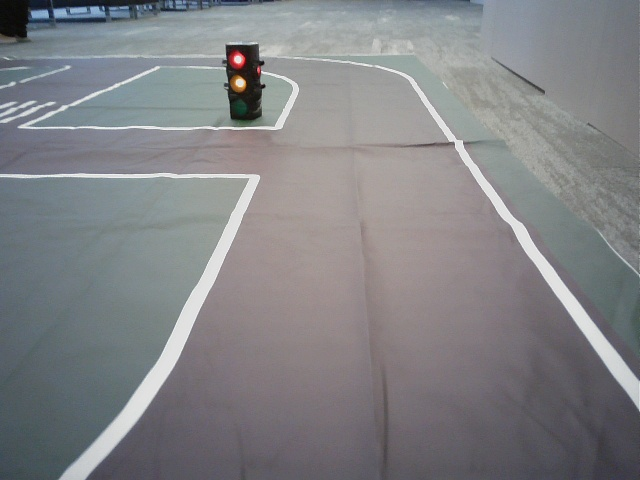red: (225, 42, 252, 117)
